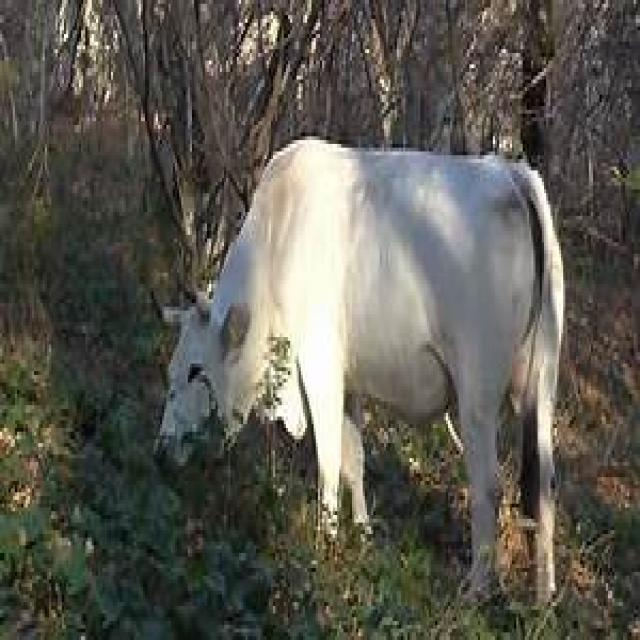cow: (160, 144, 564, 602)
